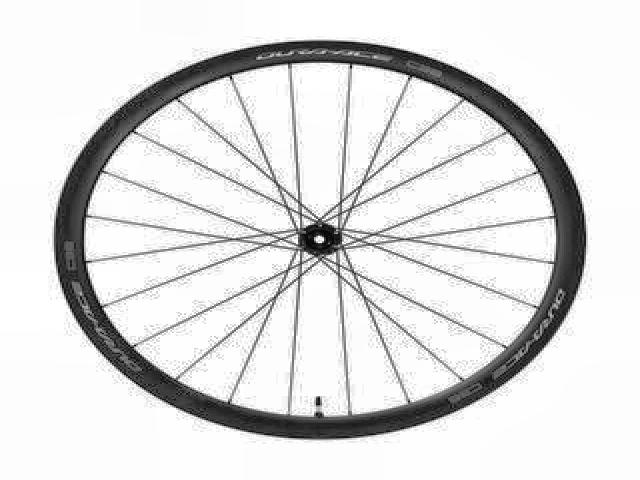wheel: (50, 35, 591, 444)
